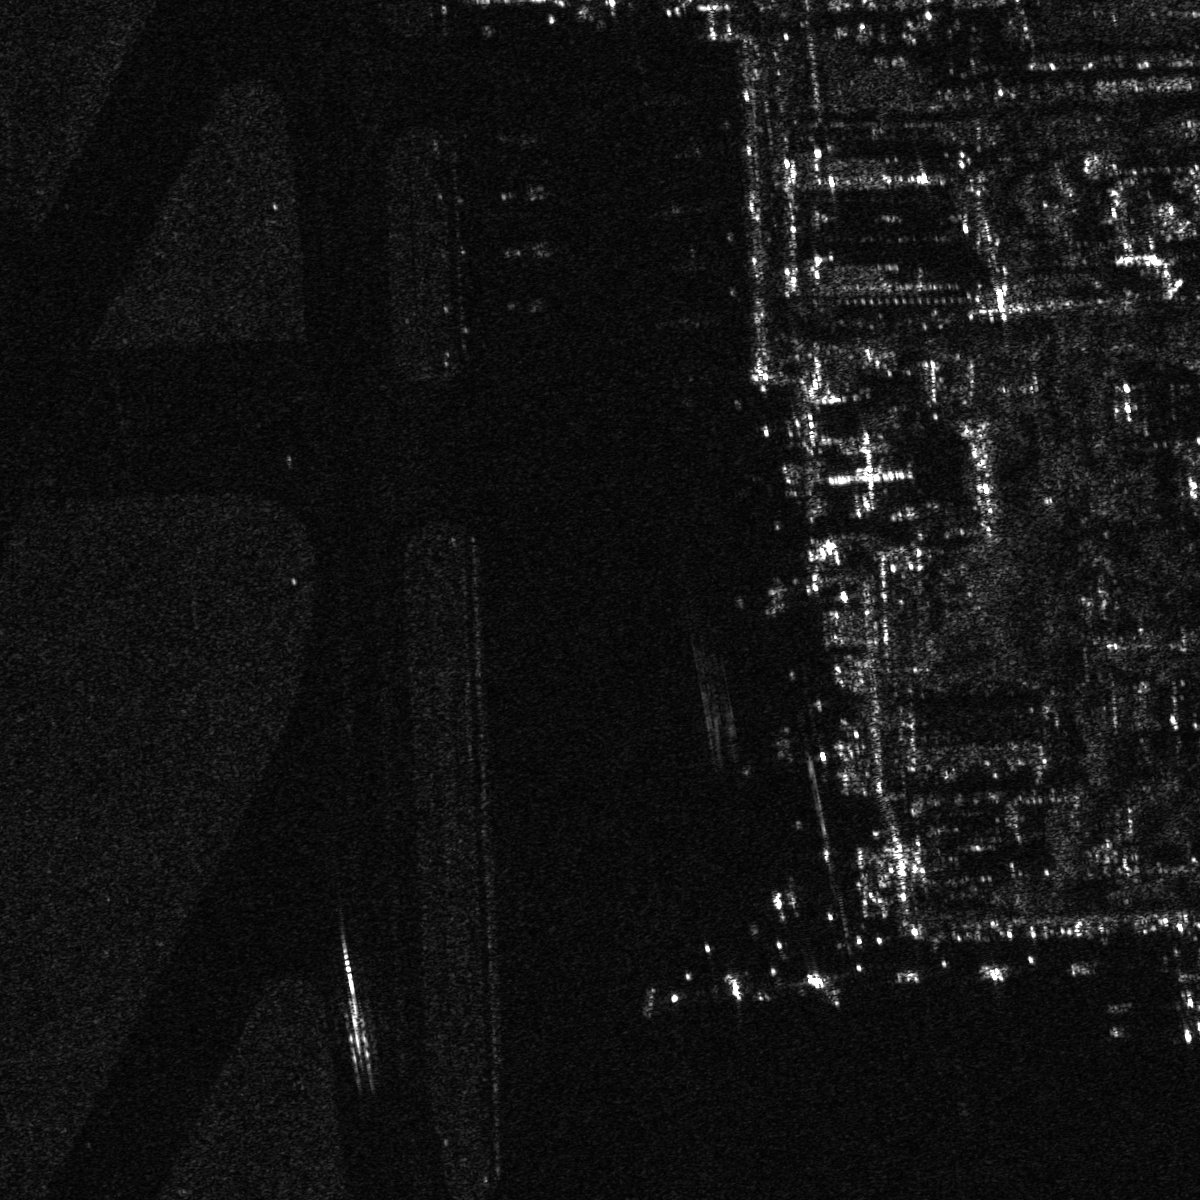ARJ21: (1157, 966, 1199, 1046), (493, 237, 563, 266), (501, 290, 555, 319)
Boeing737: (789, 962, 855, 1012)
other: (496, 175, 557, 210)
